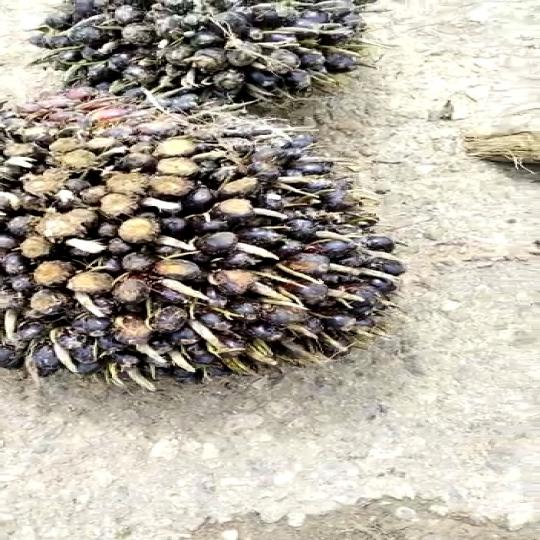mentah: (0, 103, 414, 413), (26, 0, 364, 117)
